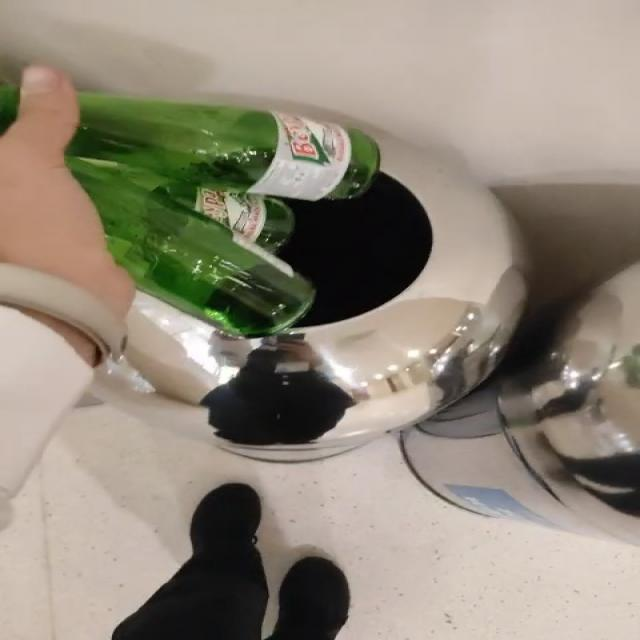bin: (128, 131, 527, 461)
glass: (65, 92, 379, 336)
